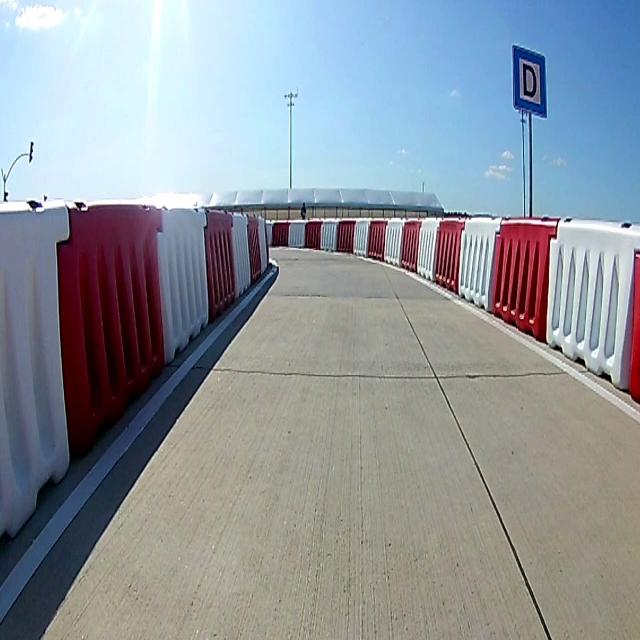durak: (512, 45, 546, 118)
